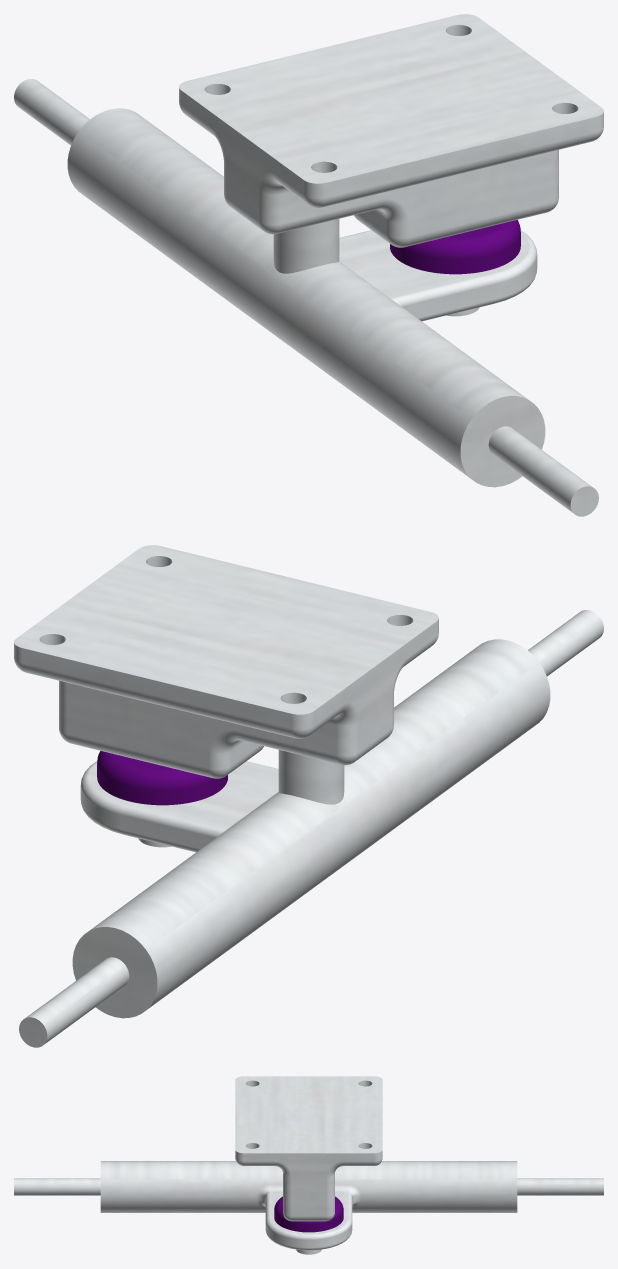
Rendered from Trucks.glb.
3 renders of one model, top to bottom at view 1: azimuth 30°, elevation 25°; view 2: azimuth 150°, elevation 25°; view 3: azimuth 270°, elevation 25°, orthographic. The views are drawn at different scales.
Visible parts, largest first — view 1: 66e84a89b7f29076a989a043.002, 66e84a89b7f29076a989a043.001, 66e84a89b7f29076a989a043; view 2: 66e84a89b7f29076a989a043.002, 66e84a89b7f29076a989a043.001, 66e84a89b7f29076a989a043; view 3: 66e84a89b7f29076a989a043.001, 66e84a89b7f29076a989a043.002, 66e84a89b7f29076a989a043.
Part boxes in pixels (box(x1,y1,x2,y2)): 66e84a89b7f29076a989a043.002: box(179, 14, 603, 316); 66e84a89b7f29076a989a043.001: box(14, 79, 598, 516); 66e84a89b7f29076a989a043: box(390, 220, 520, 274); 66e84a89b7f29076a989a043.002: box(14, 545, 438, 847); 66e84a89b7f29076a989a043.001: box(19, 610, 603, 1047); 66e84a89b7f29076a989a043: box(97, 751, 227, 805); 66e84a89b7f29076a989a043.001: box(14, 1161, 603, 1250); 66e84a89b7f29076a989a043.002: box(235, 1076, 382, 1254); 66e84a89b7f29076a989a043: box(274, 1196, 343, 1232).
Size of the model in its own units: 0.0667 by 0.0476 by 0.2159.
Materials: 2 (1 with a texture image).
